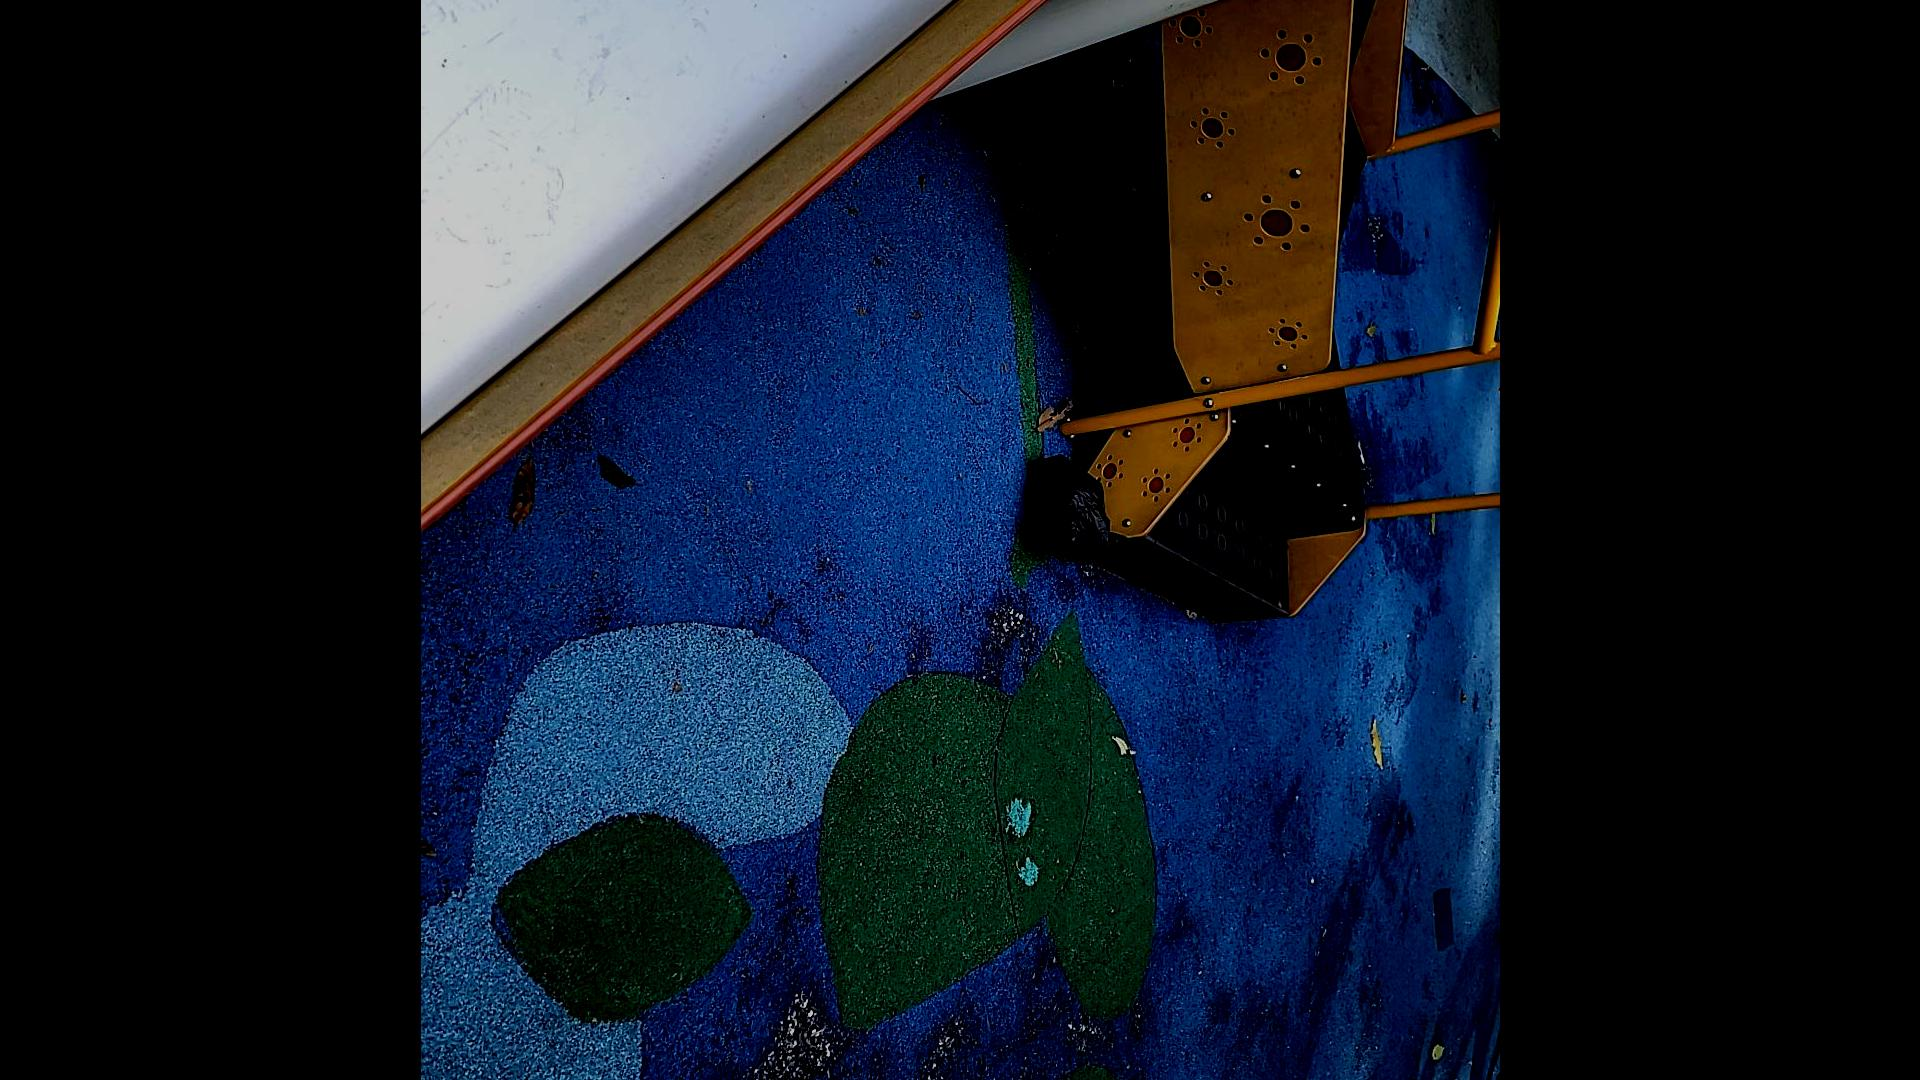black_bag: (1013, 448, 1121, 568)
